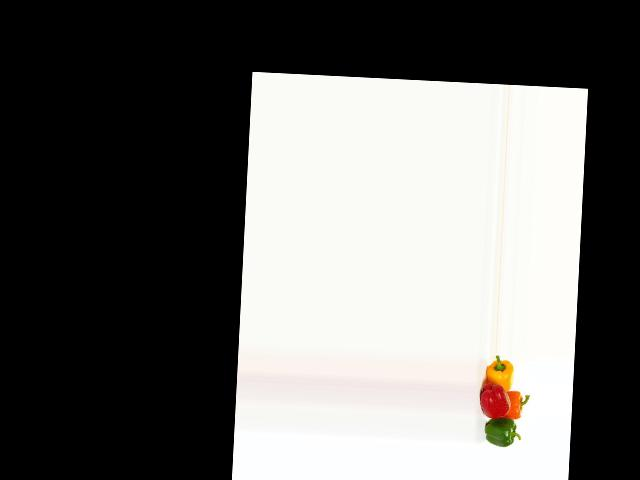bell_pepper: (479, 414, 519, 447)
